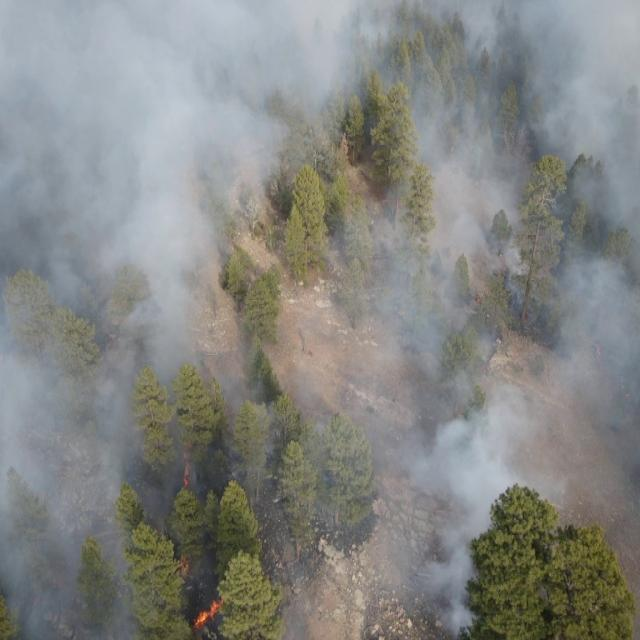fire: (192, 594, 228, 628), (178, 443, 200, 495), (176, 550, 192, 578), (622, 388, 634, 404), (596, 343, 604, 362)
smoke: (0, 0, 470, 640), (470, 1, 640, 532)
